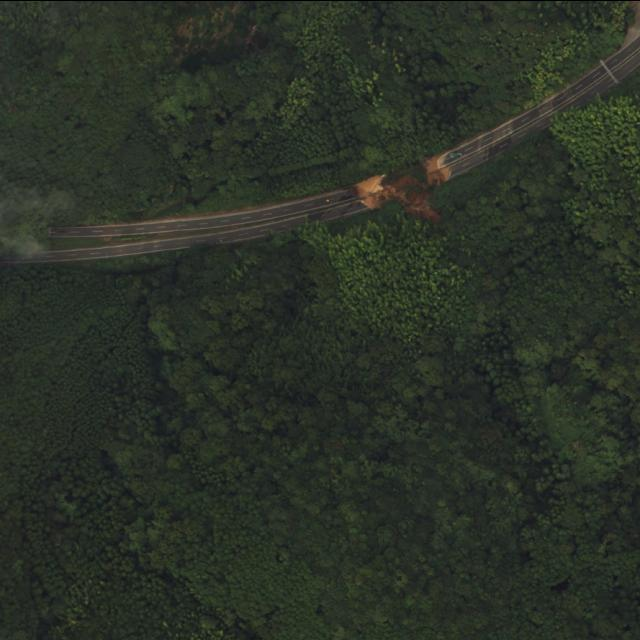landslide: (352, 160, 445, 221)
